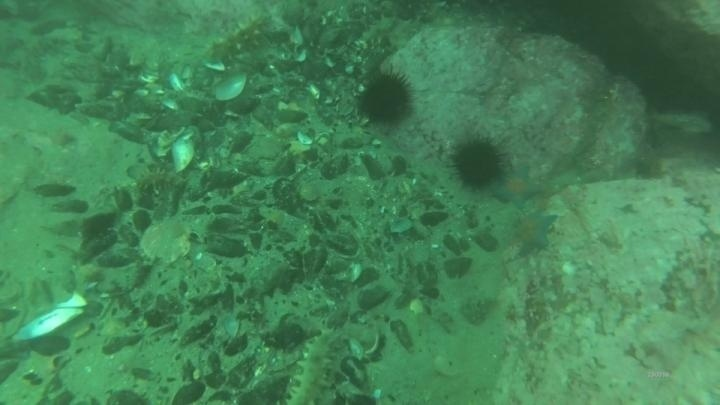echinus: (355, 69, 417, 128), (449, 135, 507, 191)
holothurian: (285, 328, 342, 405), (206, 12, 272, 63), (355, 13, 420, 53)
scallop: (139, 216, 194, 267)
starfish: (490, 164, 544, 210), (510, 208, 560, 256)
